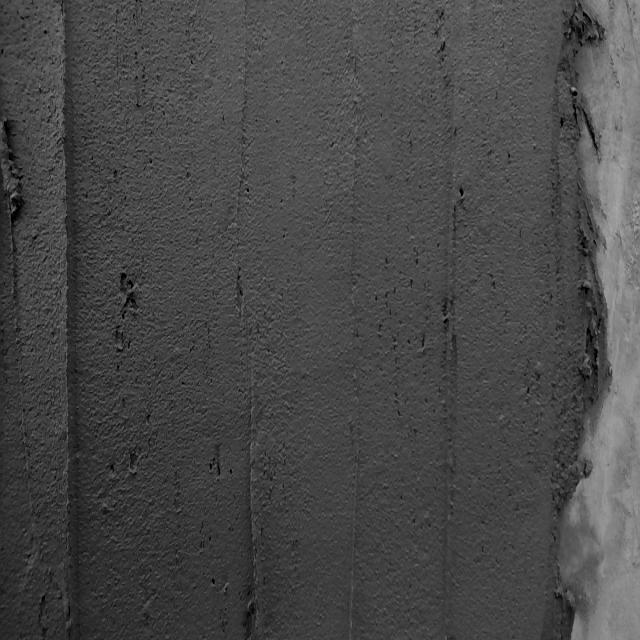trowels marks: (51, 9, 85, 640), (440, 140, 454, 636), (242, 370, 264, 640)
